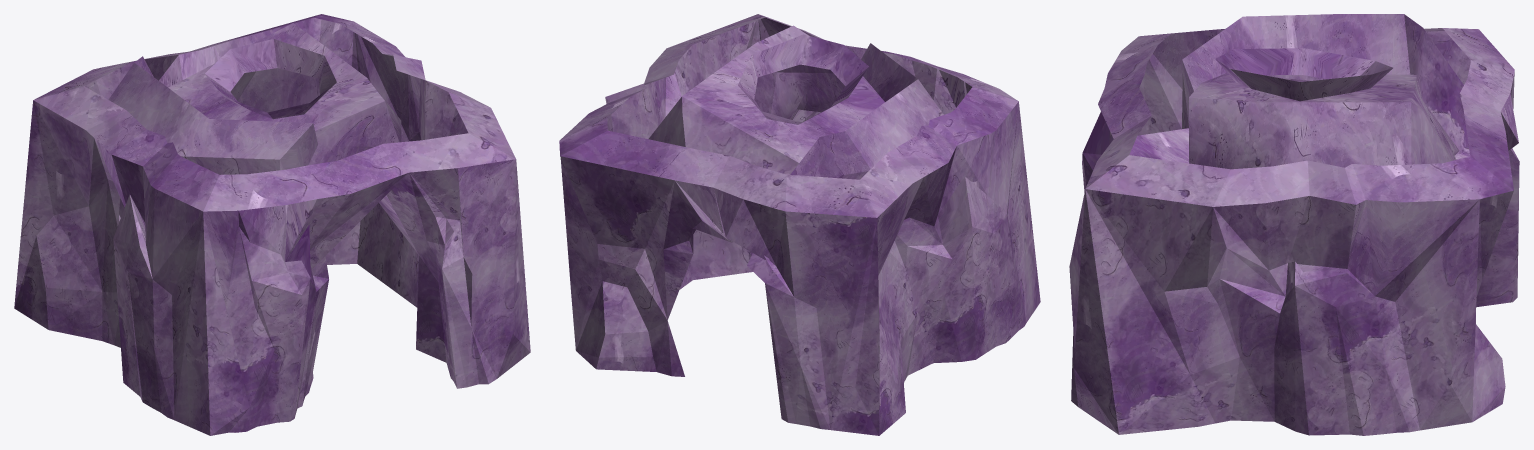
File: pm-floating-island-4.glb
3 renders of one model, left to right at view 1: azimuth 30°, elevation 25°; view 2: azimuth 150°, elevation 25°; view 3: azimuth 270°, elevation 25°, orthographic. The views are drawn at different scales.
Parts seen in each view (by area): view 1: Floating_Island_4_Art; view 2: Floating_Island_4_Art; view 3: Floating_Island_4_Art.
Part boxes in pixels (x1,y1,x2,y2): Floating_Island_4_Art: (14,14,530,435); Floating_Island_4_Art: (559,14,1040,435); Floating_Island_4_Art: (1069,14,1519,435).
Size of what is drawn, in the model's own units: 15.33 by 11.21 by 15.74.
Materials: 1 (1 with a texture image).
